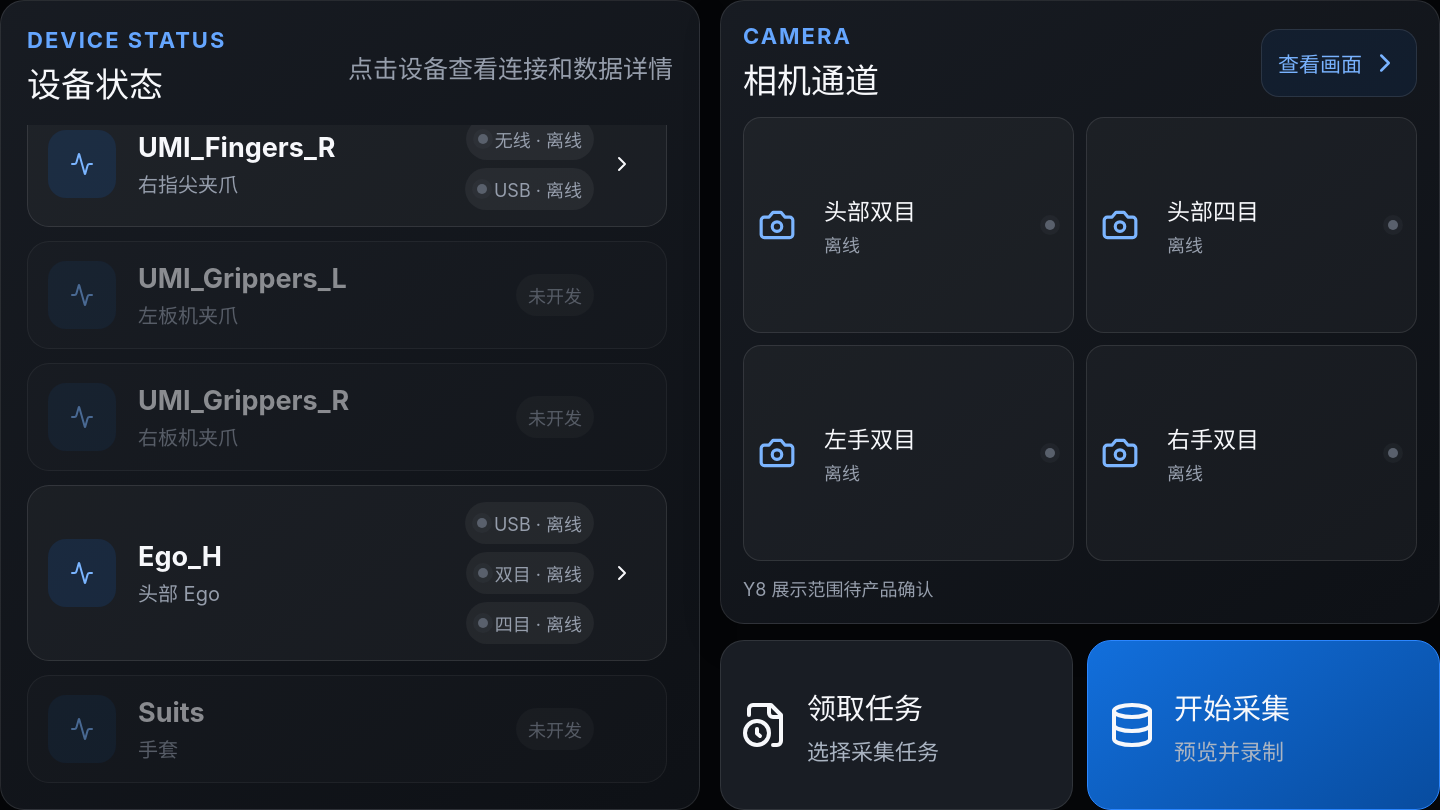
Test: RealtimeScreen › opens Ego_H details with connection states and declared stream resolutions
(page scrolled)
Click the button "Ego_H 头部 Ego USB · 离线 双目 · 离线 四目 · 离线". click: (82, 573)
box: [27,485,667,661]
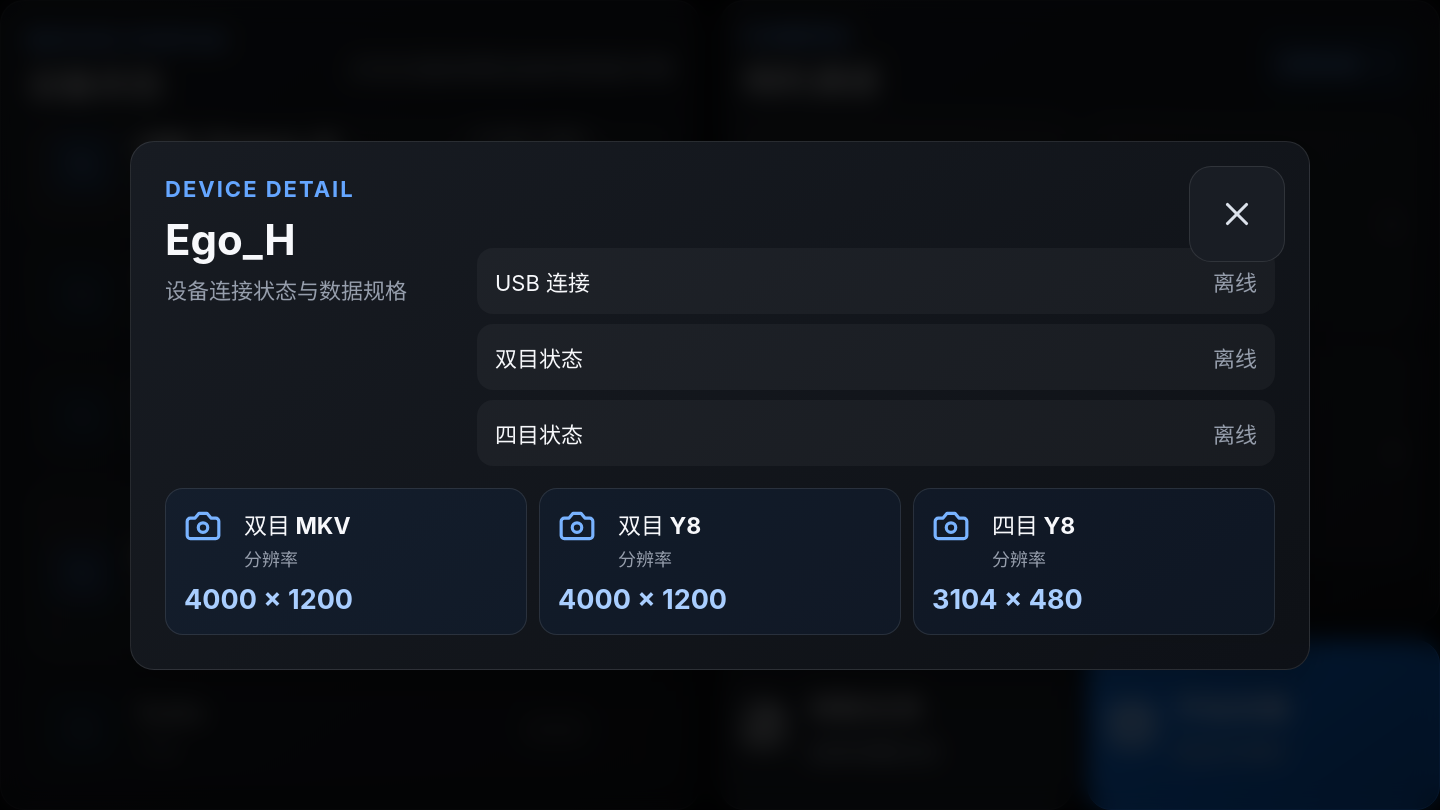
Now the text "USB 连接" is shown, box [495,264,590,296]
Now the text "双目 MKV" is shown, box [244,512,351,540]
Now the text "双目 Y8" is shown, box [618,512,701,540]
